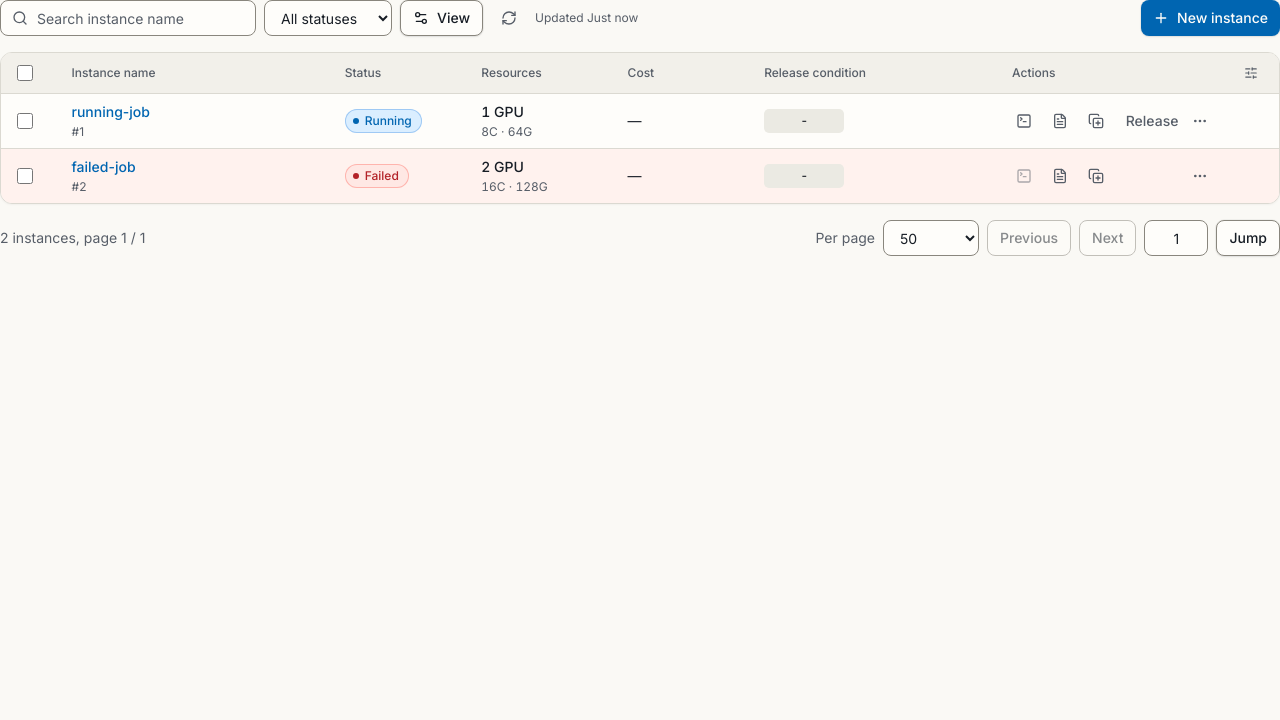
Test: TasksPage row stability › sets a column width from the column settings without the drag handle
Check: the element named "Resize Instance name column" is shown, box [325,53,333,93]
Click the button "View" at (442, 18), box [400,0,483,36]
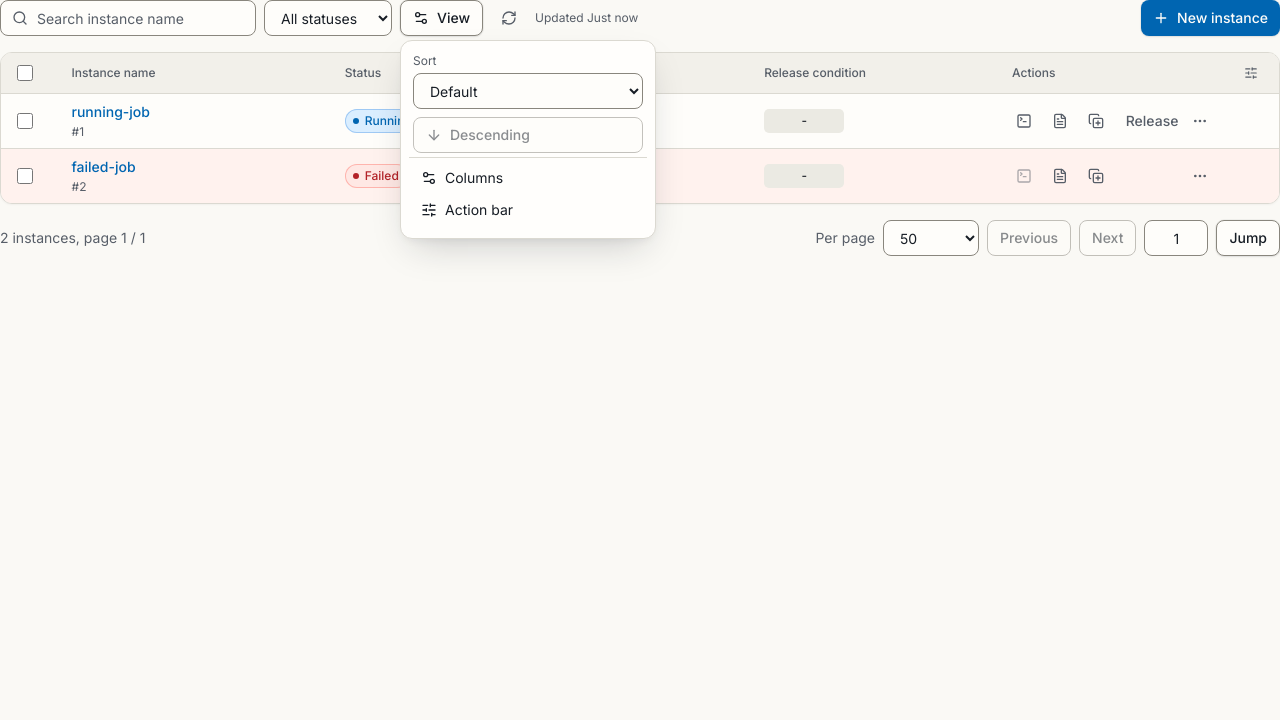
Click the button "Columns" at (528, 178), box [413,162,643,194]
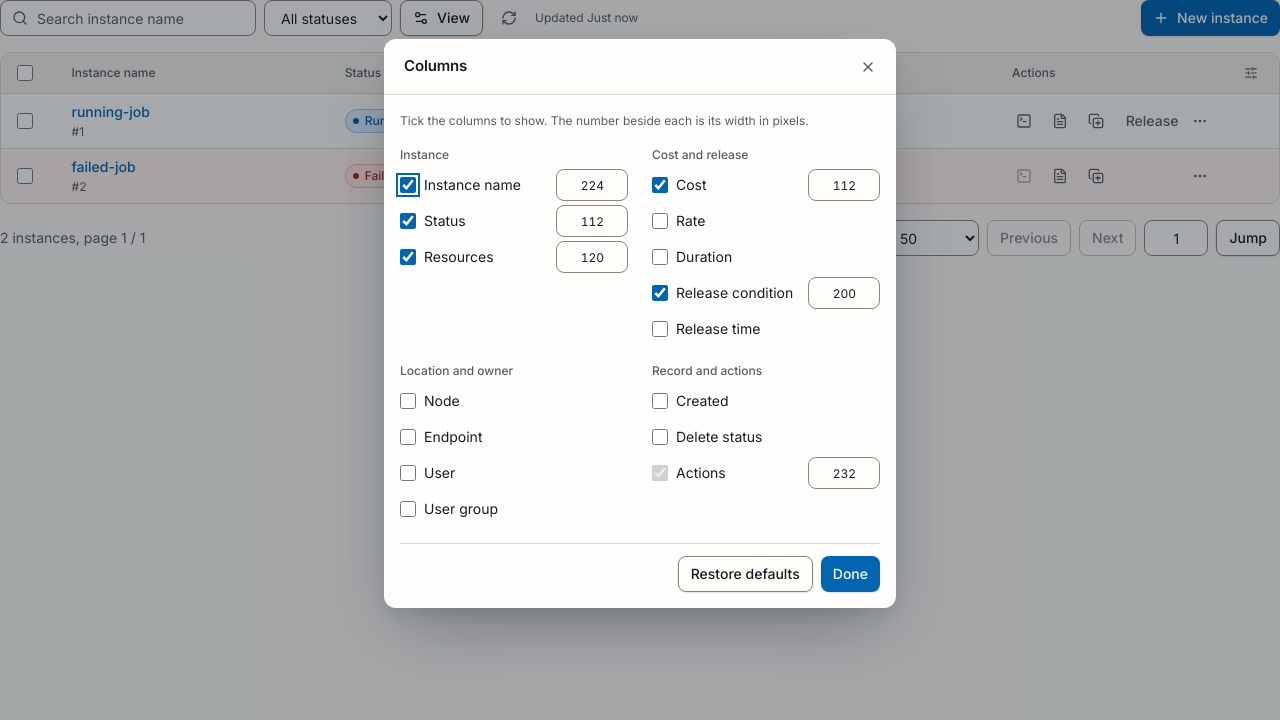
Check: the number field named "Instance name column width in pixels" holds "224"
Replace the text in the number field named "Instance name column width in pixels" with "9999" at (592, 185), box [556,169,628,201]
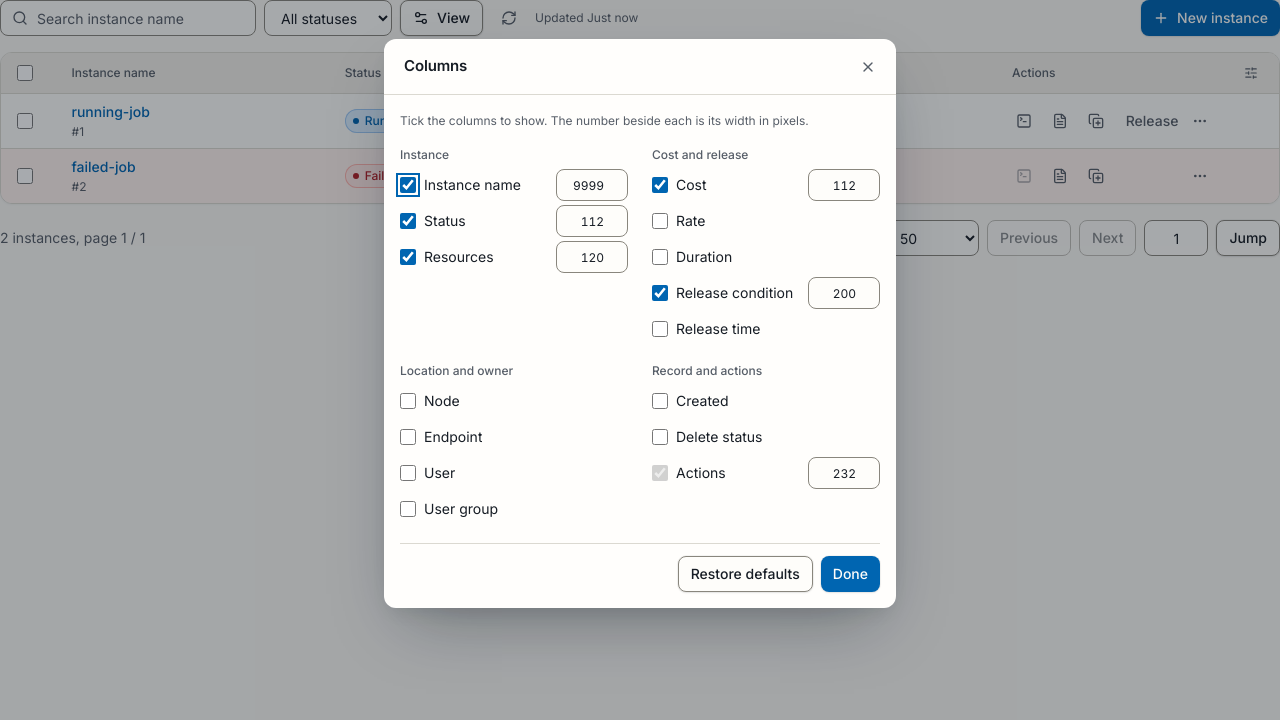
Leave the number field named "Instance name column width in pixels", box [556,169,628,201]
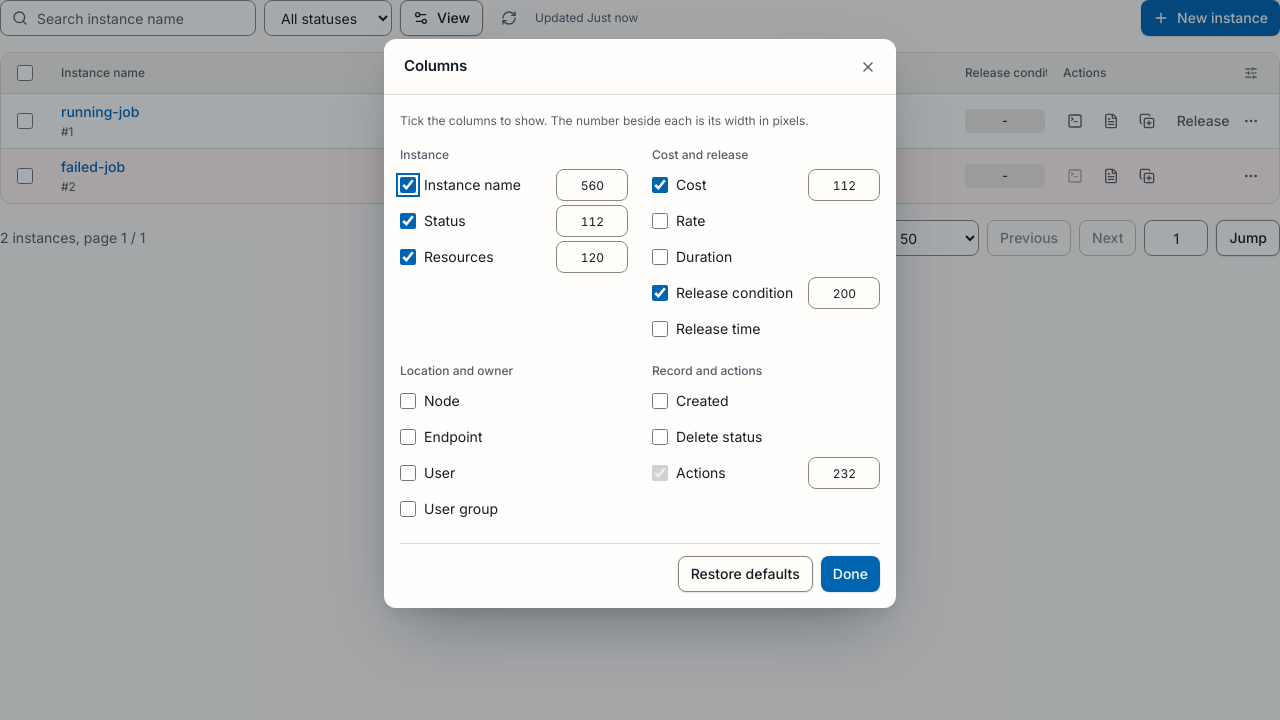
Check: the number field named "Instance name column width in pixels" holds "560", box [556,169,628,201]
